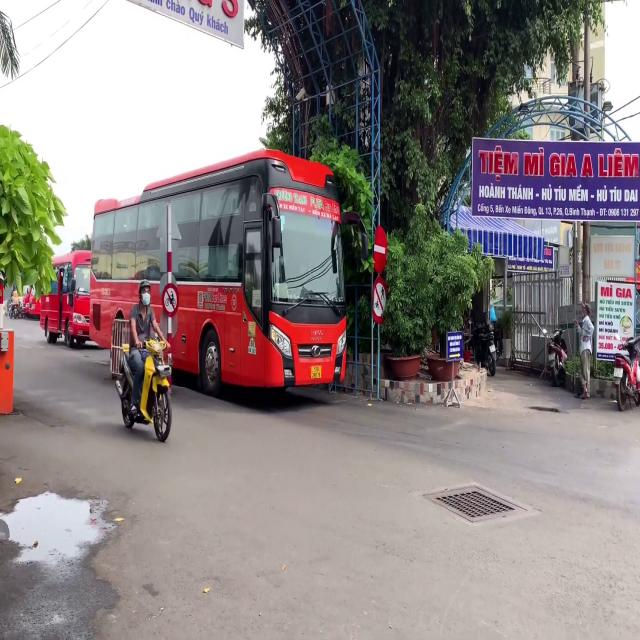bien_vang: (311, 365, 321, 379)
